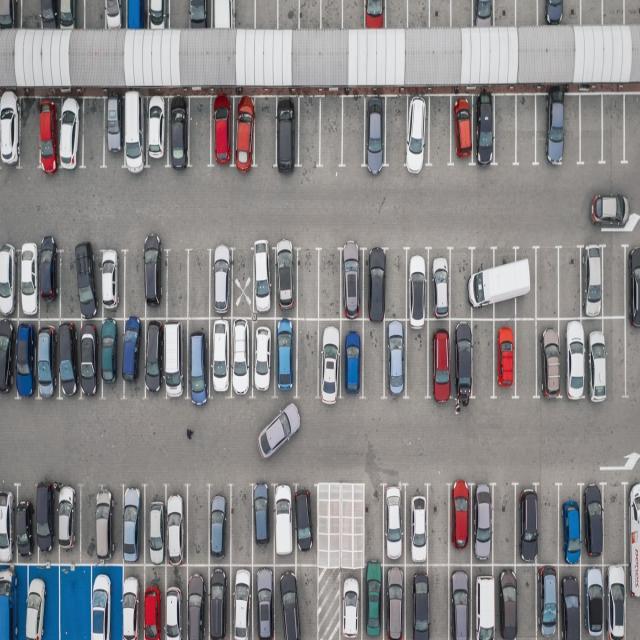space-empty: (58, 562, 93, 638), (603, 318, 629, 397), (470, 319, 496, 397), (512, 321, 538, 398), (423, 564, 450, 638), (405, 322, 431, 398), (292, 564, 318, 638), (425, 96, 452, 167), (341, 94, 367, 167), (231, 487, 255, 566), (492, 487, 516, 565), (185, 487, 209, 565), (362, 319, 386, 396), (294, 319, 318, 396), (188, 97, 214, 168), (254, 97, 280, 168), (426, 486, 449, 566), (601, 246, 626, 319), (228, 247, 253, 320), (296, 97, 322, 167), (82, 98, 108, 168), (320, 96, 345, 168), (537, 489, 560, 567), (362, 487, 384, 568), (534, 249, 559, 320), (381, 250, 406, 320), (602, 486, 624, 565), (492, 93, 516, 165), (515, 566, 539, 638), (383, 97, 407, 169), (19, 99, 43, 171), (316, 251, 341, 320), (293, 251, 318, 320), (557, 250, 582, 318), (166, 250, 191, 318), (449, 250, 473, 320), (580, 94, 604, 164), (603, 96, 627, 165), (515, 94, 538, 165), (186, 250, 210, 318), (124, 251, 148, 318), (61, 247, 83, 318), (81, 488, 100, 563), (563, 94, 581, 168), (318, 490, 334, 568), (624, 319, 640, 396), (624, 95, 640, 164), (319, 0, 343, 31), (342, 0, 366, 30), (298, 0, 322, 30), (384, 1, 408, 30), (407, 0, 431, 29), (255, 0, 278, 30), (85, 0, 107, 31), (277, 0, 299, 31), (450, 0, 474, 28), (21, 0, 43, 30), (430, 0, 453, 28), (168, 0, 190, 29), (234, 0, 256, 29), (515, 0, 537, 27), (493, 0, 515, 27), (601, 0, 624, 25), (581, 0, 603, 25), (624, 0, 640, 24)
space-occupied: (18, 563, 56, 640), (86, 562, 119, 638), (570, 321, 600, 402), (560, 318, 590, 398), (536, 320, 564, 399), (492, 316, 518, 396), (427, 320, 453, 400), (446, 483, 472, 563), (339, 318, 365, 398), (316, 318, 342, 398), (187, 319, 212, 402), (449, 319, 474, 402), (471, 564, 499, 638), (252, 319, 278, 397), (380, 483, 405, 564), (540, 94, 568, 166), (471, 483, 496, 563), (208, 319, 233, 399), (33, 319, 58, 399), (226, 563, 253, 637), (272, 318, 297, 397), (586, 318, 611, 397), (142, 96, 169, 169), (162, 318, 186, 400), (122, 318, 147, 396), (140, 564, 166, 639), (163, 486, 188, 564), (404, 97, 431, 169), (491, 246, 518, 318), (448, 564, 474, 638), (122, 96, 148, 170), (206, 563, 232, 637), (56, 487, 82, 561), (183, 564, 209, 638), (227, 319, 251, 399), (122, 484, 146, 564), (100, 250, 128, 318), (121, 563, 146, 639), (578, 562, 603, 638), (162, 566, 188, 639), (381, 319, 405, 398), (406, 484, 430, 563), (513, 485, 537, 564), (449, 96, 476, 166), (274, 96, 300, 168), (471, 246, 497, 318), (58, 320, 81, 401), (364, 94, 389, 168), (534, 566, 559, 640), (272, 246, 298, 317), (340, 569, 366, 640), (13, 319, 36, 399), (208, 488, 232, 564), (208, 248, 234, 318), (577, 248, 603, 318), (361, 250, 387, 320), (209, 96, 234, 168), (167, 98, 192, 170), (558, 563, 582, 638), (380, 563, 404, 638), (560, 489, 584, 564), (274, 563, 298, 638), (142, 486, 165, 564), (405, 564, 429, 638), (94, 486, 117, 563), (251, 485, 273, 565), (59, 98, 84, 168), (273, 485, 296, 561), (426, 252, 452, 319), (144, 319, 166, 398), (254, 244, 278, 316), (230, 98, 254, 170), (14, 247, 38, 319), (494, 568, 518, 640), (101, 316, 123, 394), (254, 564, 277, 638), (406, 251, 431, 319), (80, 247, 104, 317), (512, 248, 536, 318), (37, 244, 60, 317), (34, 486, 57, 559), (359, 567, 382, 640), (340, 250, 365, 317), (581, 488, 602, 566), (473, 97, 496, 168), (104, 98, 127, 168), (144, 249, 168, 316), (293, 489, 314, 565), (607, 562, 628, 638), (0, 564, 21, 640), (103, 489, 124, 565), (80, 320, 100, 399), (16, 486, 37, 561), (39, 98, 60, 170), (1, 96, 20, 170), (0, 244, 18, 317), (625, 482, 640, 564), (0, 491, 16, 566), (0, 319, 14, 397), (626, 563, 640, 637), (540, 0, 579, 25), (627, 246, 640, 318), (56, 0, 81, 29), (126, 0, 150, 30), (146, 0, 170, 29), (362, 0, 386, 29), (187, 0, 211, 28), (210, 0, 233, 29), (104, 0, 126, 30), (473, 0, 497, 27), (0, 0, 20, 30), (39, 0, 58, 29), (69, 0, 86, 30)
